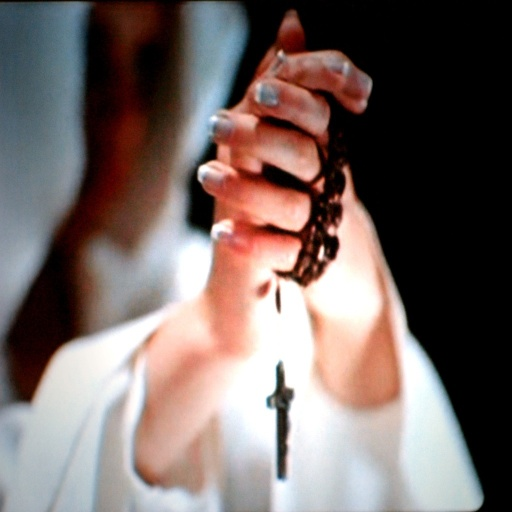hand: (201, 44, 372, 358), (197, 8, 328, 276)
